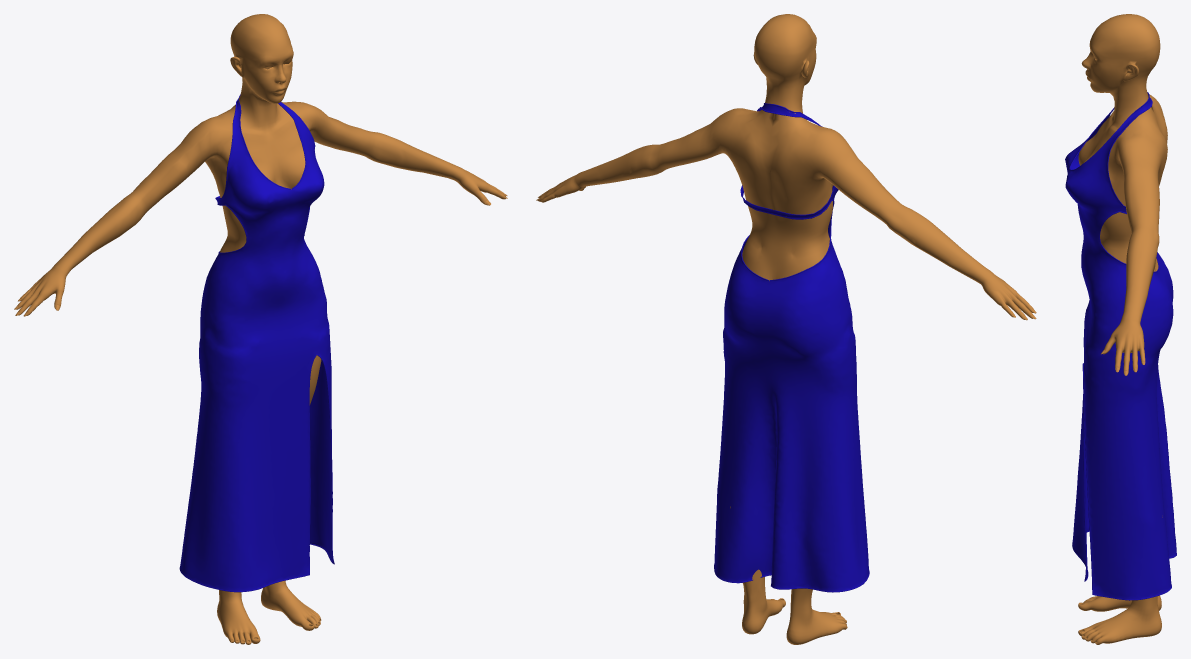
The model's file is dress9.glb.
3 views of the same model, side by side, from view 1: azimuth 30°, elevation 25°; view 2: azimuth 150°, elevation 25°; view 3: azimuth 270°, elevation 25° (orthographic).
Visible parts, largest first — view 1: EveningDress, Body; view 2: EveningDress, Body; view 3: EveningDress, Body.
Boxes of the visible parts, bbox=[...] form: EveningDress: bbox=[179, 94, 334, 592]; Body: bbox=[16, 14, 506, 644]; EveningDress: bbox=[714, 103, 869, 592]; Body: bbox=[538, 14, 1033, 644]; EveningDress: bbox=[1065, 92, 1176, 600]; Body: bbox=[1078, 14, 1167, 644].
Bounding box in the file's own units: 1.58 × 1.85 × 0.3089.
